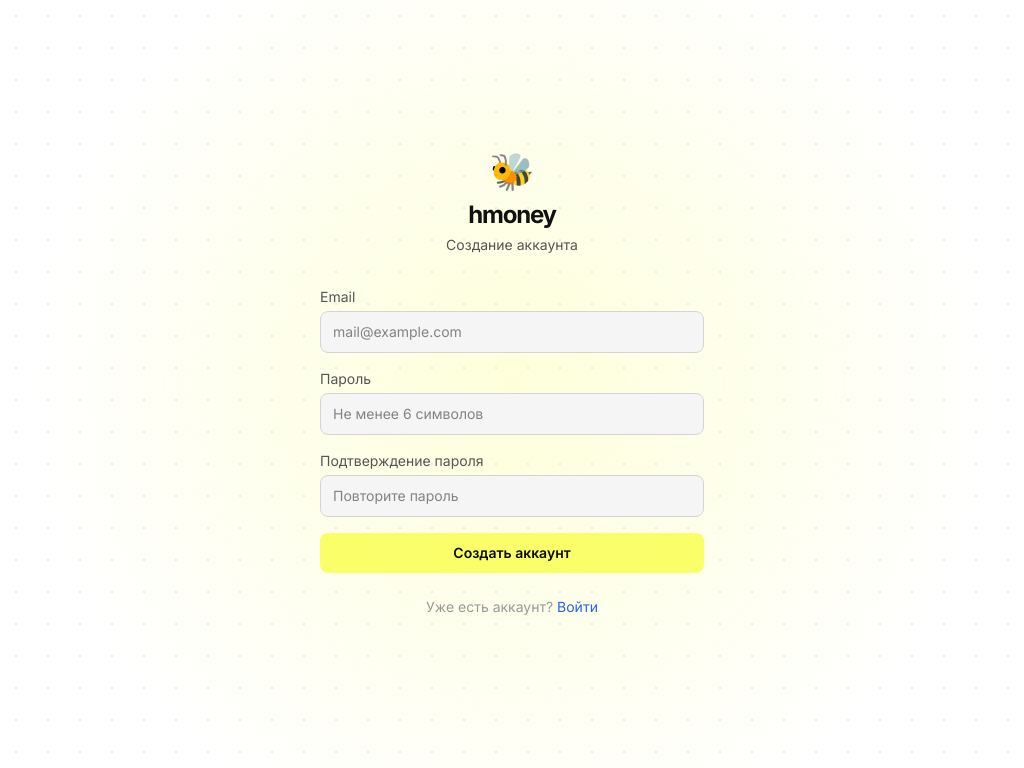
Test: RegisterPage › shows error when passwords do not match
Type "test@test.com" into the field labelled "Email".
click(512, 332); type("test@test.com")  # box [320,311,704,353]
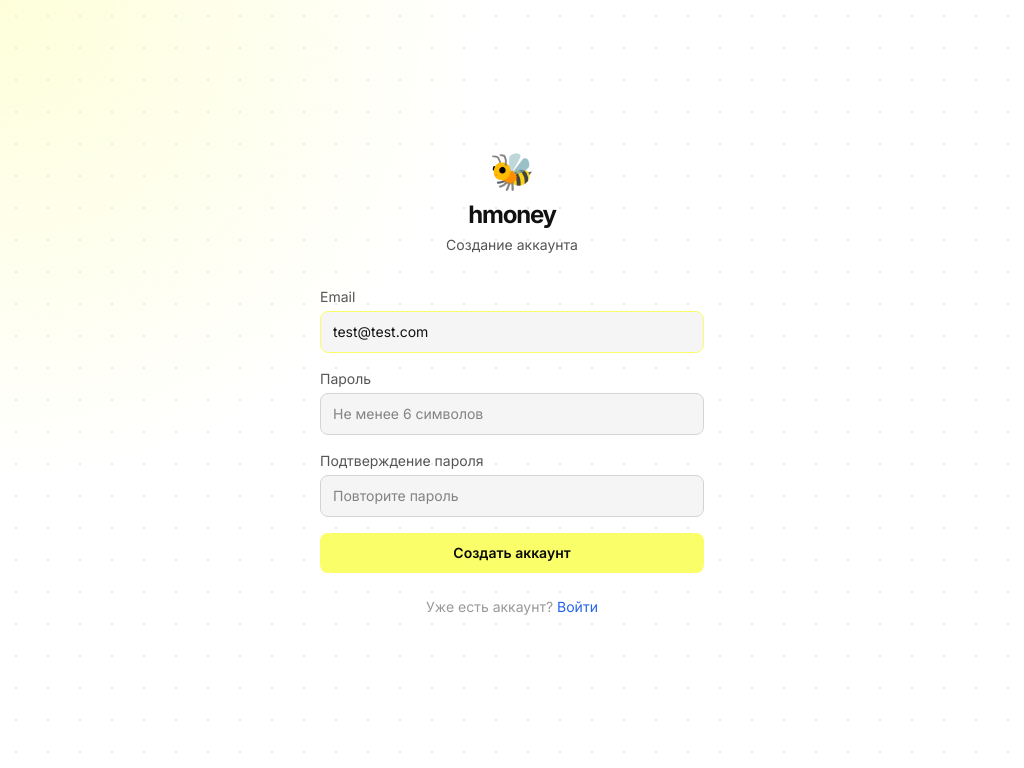
Type "pass1" into the password field labelled "Пароль".
click(512, 414); type("pass1")  # box [320,393,704,435]
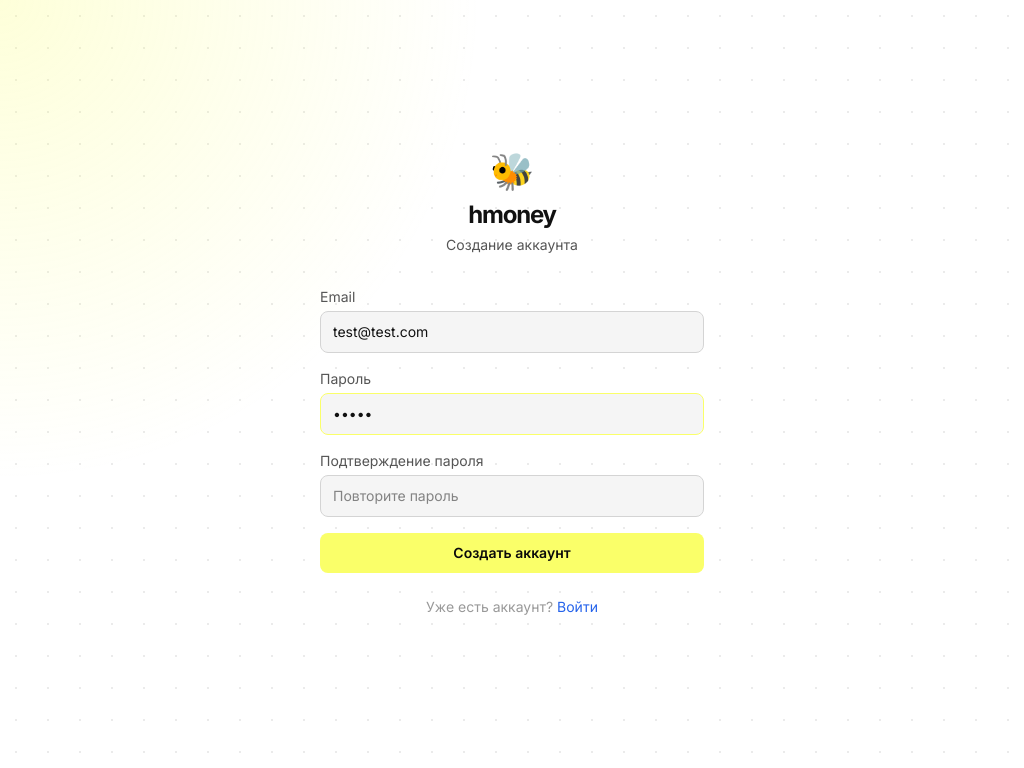
Type "pass2" into the password field labelled "Подтверждение пароля".
click(512, 496); type("pass2")  # box [320,475,704,517]
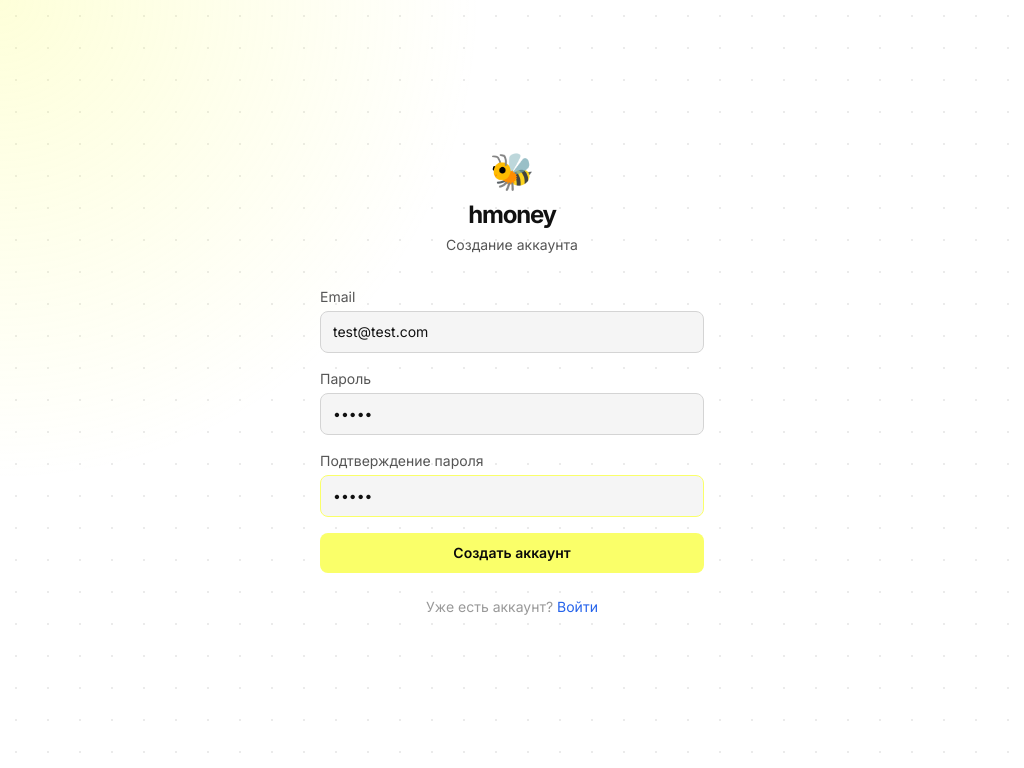
Click the button "Создать аккаунт".
click(512, 553)  # box [320,533,704,573]
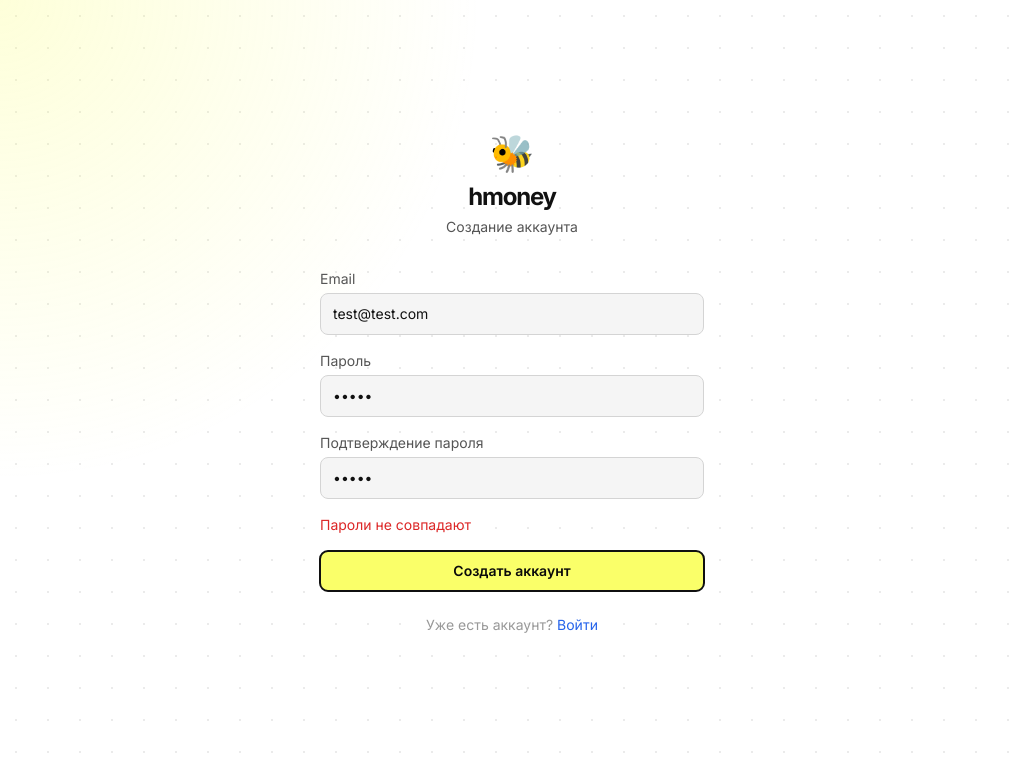
Expected: the text "Пароли не совпадают" is shown, [320,516,471,533]
